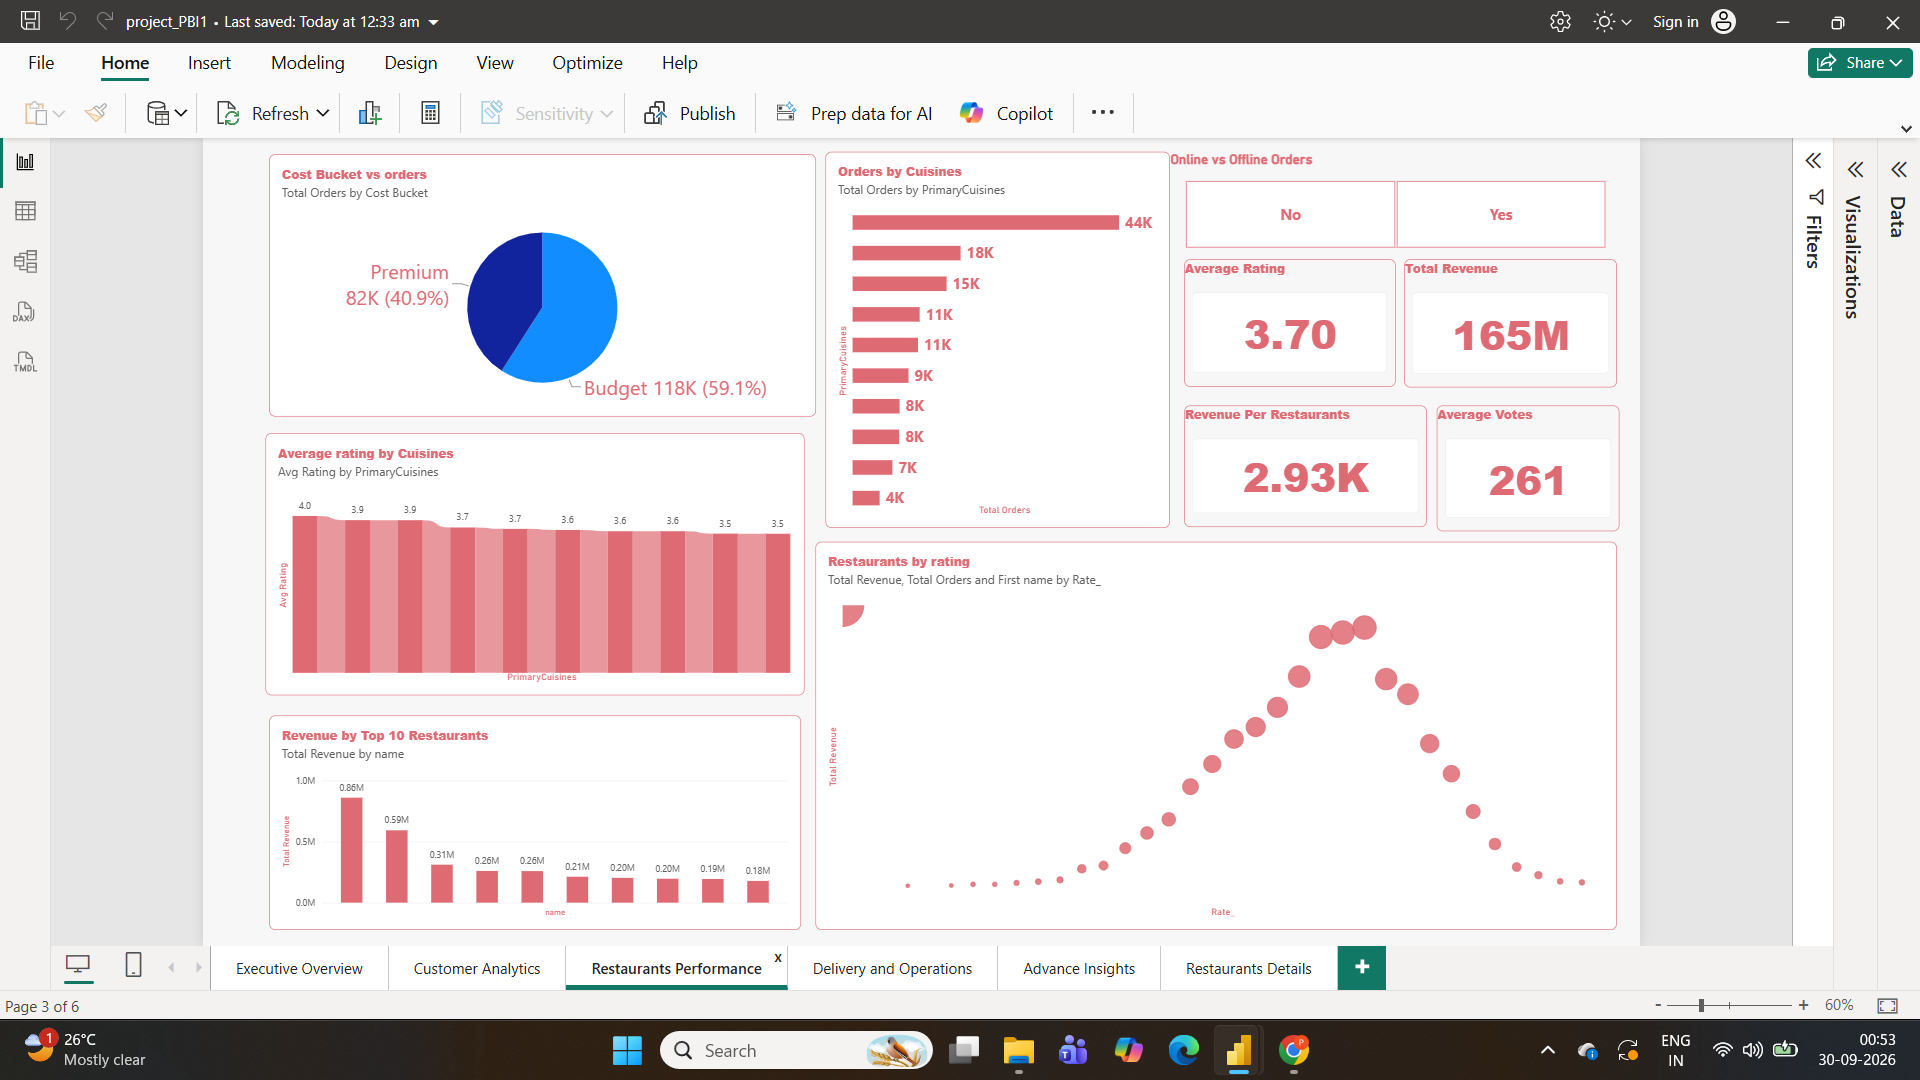

What the dashboard file says about the page in this screenshot:
{"tool":"powerbi","page":{"name":"Restaurants Performance","canvas":[1920,1080],"ordinal":2},"visuals":[{"type":"cardVisual","title":"Total Revenue","fields":{"Data":["Orders.Total Revenue"]},"box":[1604,162,284,170.8],"z":0},{"type":"cardVisual","title":"Average Rating","fields":{"Data":["Orders.Avg Rating"]},"box":[1310,162,282,170],"z":1000},{"type":"cardVisual","title":"Average Votes","fields":{"Data":["Orders.Avg Votes"]},"box":[1648,358,244,168],"z":2000},{"type":"cardVisual","title":"Revenue Per Restaurants","fields":{"Data":["Orders.Revenue Per Restarant"]},"box":[1310,358,324,162],"z":3000},{"type":"barChart","title":"Orders by Cuisines","fields":{"Category":["Restaurants.PrimaryCuisines"],"Y":["Orders.Total Orders"]},"box":[832,18,460,502],"z":4000},{"type":"columnChart","title":"Revenue by Top 10 Restaurants","fields":{"Category":["Restaurants.name"],"Y":["Orders.Total Revenue"]},"box":[88,772,710,286],"z":5000},{"type":"columnChart","title":"Average rating by Cuisines","fields":{"Category":["Restaurants.PrimaryCuisines"],"Y":["Orders.Avg Rating"]},"box":[84,394,720,350],"z":6000},{"type":"scatterChart","title":"Restaurants by rating","fields":{"Size":["Orders.Total Orders"],"X":["Restaurants.Rate_"],"Y":["Orders.Total Revenue"]},"box":[818,540,1070,518],"z":7000},{"type":"pieChart","title":"Cost Bucket vs orders","fields":{"Category":["Restaurants.Cost Bucket"],"Y":["Orders.Total Orders"]},"box":[88,22,730,350],"z":8000},{"type":"slicer","title":"Online vs Offline Orders","fields":{"Values":["Restaurants.Online_Order 2"]},"box":[1292,18,600,130],"z":8001}]}

Visuals, with their boxes on the page's 1920x1080 design canvas (x1, y1, x2, y2). These are canvas units, not pixel positions in the 1920x1080 screenshot, which may show the page scaled, cropped or inside an application window:
"Total Revenue" cardVisual: 1604, 162, 1888, 333
"Average Rating" cardVisual: 1310, 162, 1592, 332
"Average Votes" cardVisual: 1648, 358, 1892, 526
"Revenue Per Restaurants" cardVisual: 1310, 358, 1634, 520
"Orders by Cuisines" barChart: 832, 18, 1292, 520
"Revenue by Top 10 Restaurants" columnChart: 88, 772, 798, 1058
"Average rating by Cuisines" columnChart: 84, 394, 804, 744
"Restaurants by rating" scatterChart: 818, 540, 1888, 1058
"Cost Bucket vs orders" pieChart: 88, 22, 818, 372
"Online vs Offline Orders" slicer: 1292, 18, 1892, 148
